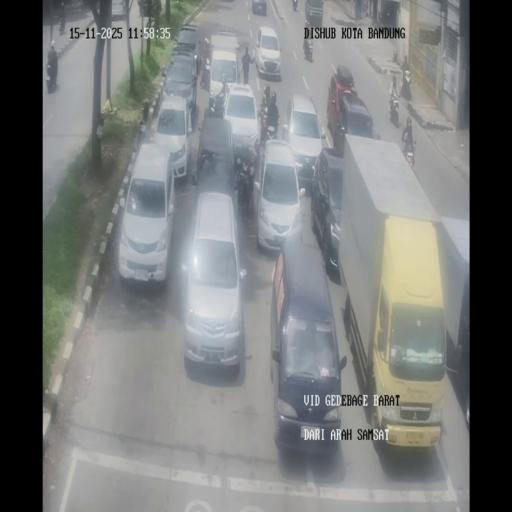3: (337, 137, 452, 449), (111, 0, 126, 21)
car: (270, 238, 342, 454), (181, 190, 246, 371), (118, 143, 176, 284), (436, 218, 469, 434), (313, 147, 346, 276), (282, 92, 324, 186), (152, 94, 193, 181), (194, 114, 236, 192), (336, 92, 380, 154), (207, 49, 239, 112), (254, 26, 282, 78), (174, 24, 202, 75), (304, 0, 324, 27), (251, 0, 267, 16)
truck: (258, 106, 276, 146), (237, 165, 250, 209), (400, 66, 412, 100), (200, 58, 211, 90), (46, 62, 57, 94), (403, 142, 416, 168), (389, 98, 400, 128), (303, 37, 314, 63), (202, 36, 210, 64), (58, 14, 66, 35), (361, 0, 369, 18), (292, 0, 298, 11), (378, 10, 382, 23)
